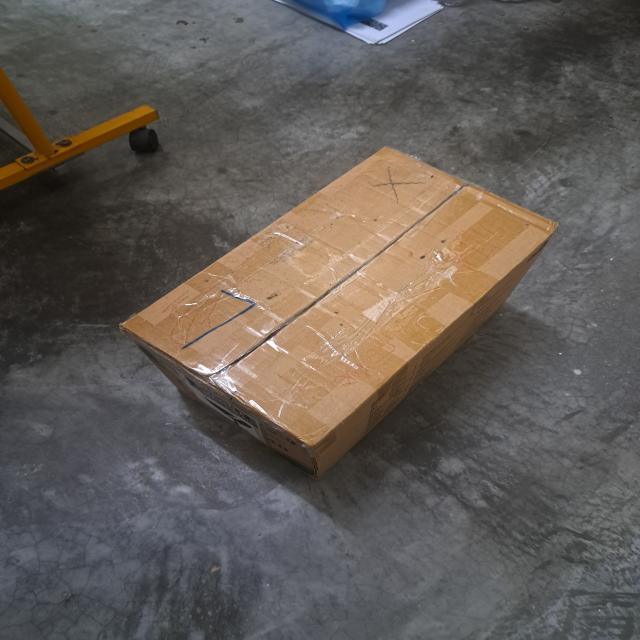cardboard: (119, 145, 557, 478)
